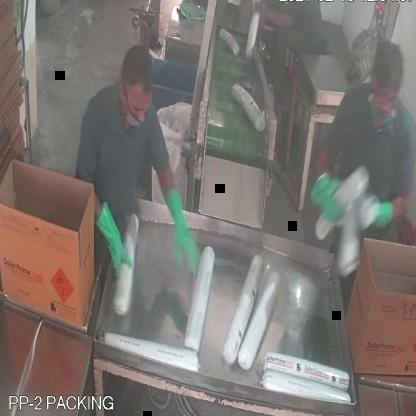glove: (165, 173, 206, 280), (92, 185, 134, 283)
no_glove: (253, 0, 294, 38)
